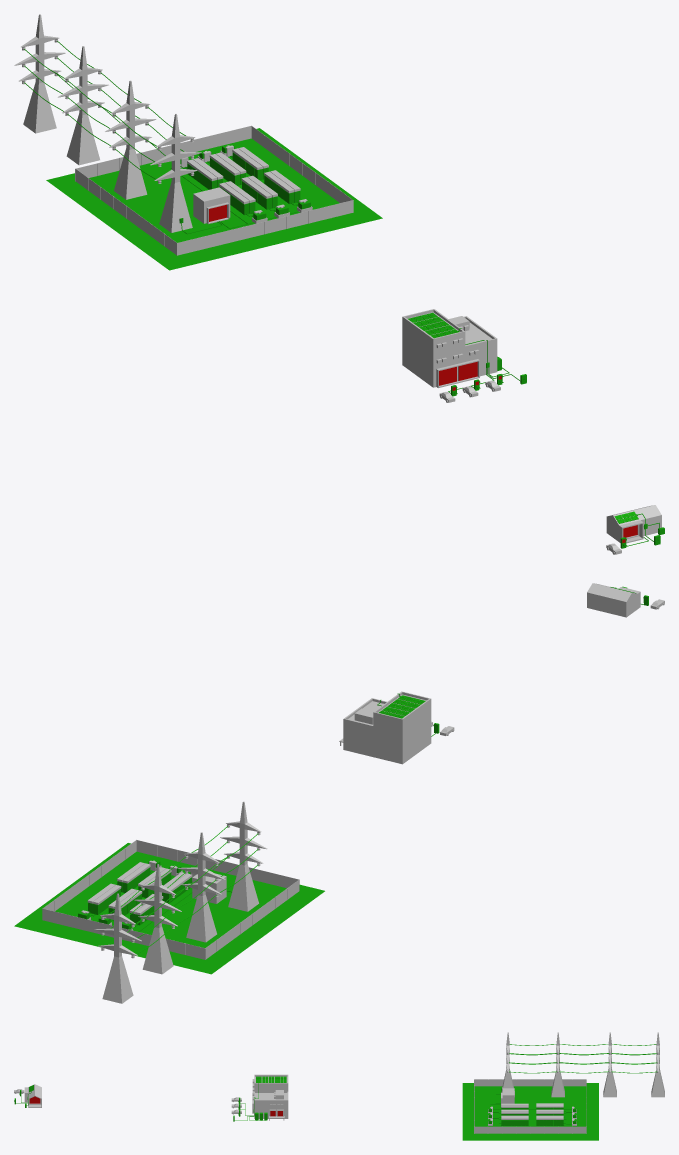
The model's file is ngen_assets.obj.
3 views of the same model, one above another, from view 1: azimuth 30°, elevation 25°; view 2: azimuth 150°, elevation 25°; view 3: azimuth 270°, elevation 25° (orthographic). The views are drawn at different scales.
Parts seen in each view (by area): view 1: 3.1-Investor_Energy_Hub_PLANE, 2-Business_Facility, Perimeter_Fence_-_East.001, Transmission_Pylon_04.001, Transmission_Pylon_01.001, Transmission_Pylon_03.001, Transmission_Pylon_02.001, Perimeter_Fence_-_North.001, Perimeter_Fence_-_South.001, 1-House, Perimeter_Fence_-_West.001, 3-Investor_Energy_Hub; view 2: 3.1-Investor_Energy_Hub_PLANE, 2-Business_Facility, Transmission_Pylon_01.001, Transmission_Pylon_04.001, Transmission_Pylon_02.001, Transmission_Pylon_03.001, Perimeter_Fence_-_East.001, Perimeter_Fence_-_North.001, 1-House, Perimeter_Fence_-_South.001, Perimeter_Fence_-_West.001; view 3: 3.1-Investor_Energy_Hub_PLANE, 2-Business_Facility, Perimeter_Fence_-_West.001, Perimeter_Fence_-_South.001, Transmission_Pylon_02.001, Transmission_Pylon_04.001, Transmission_Pylon_03.001, 1-House, Transmission_Pylon_01.001, 3-Investor_Energy_Hub.
Boxes of the visible parts, <box> form: 3.1-Investor_Energy_Hub_PLANE: <box>46,128,382,270</box>; 2-Business_Facility: <box>402,309,497,387</box>; Perimeter_Fence_-_East.001: <box>177,200,353,255</box>; Transmission_Pylon_04.001: <box>14,14,65,133</box>; Transmission_Pylon_01.001: <box>150,114,201,232</box>; Transmission_Pylon_03.001: <box>57,46,108,165</box>; Transmission_Pylon_02.001: <box>105,80,156,199</box>; Perimeter_Fence_-_North.001: <box>75,125,251,181</box>; Perimeter_Fence_-_South.001: <box>75,169,177,255</box>; 1-House: <box>606,505,661,543</box>; Perimeter_Fence_-_West.001: <box>251,126,352,202</box>; 3-Investor_Energy_Hub: <box>193,187,230,224</box>; 3.1-Investor_Energy_Hub_PLANE: <box>14,843,324,974</box>; 2-Business_Facility: <box>343,691,431,764</box>; Transmission_Pylon_01.001: <box>220,801,267,911</box>; Transmission_Pylon_04.001: <box>94,893,141,1003</box>; Transmission_Pylon_02.001: <box>178,832,225,942</box>; Transmission_Pylon_03.001: <box>134,864,181,974</box>; Perimeter_Fence_-_East.001: <box>136,839,298,888</box>; Perimeter_Fence_-_North.001: <box>43,908,205,959</box>; 1-House: <box>587,583,640,617</box>; Perimeter_Fence_-_South.001: <box>205,879,299,959</box>; Perimeter_Fence_-_West.001: <box>42,840,136,920</box>; 3.1-Investor_Energy_Hub_PLANE: <box>462,1083,598,1140</box>; 2-Business_Facility: <box>252,1074,288,1118</box>; Perimeter_Fence_-_West.001: <box>474,1126,586,1133</box>; Perimeter_Fence_-_South.001: <box>474,1079,586,1086</box>; Transmission_Pylon_02.001: <box>551,1032,564,1097</box>; Transmission_Pylon_04.001: <box>651,1032,664,1097</box>; Transmission_Pylon_03.001: <box>603,1032,616,1097</box>; 1-House: <box>24,1084,41,1107</box>; Transmission_Pylon_01.001: <box>501,1032,514,1096</box>; 3-Investor_Energy_Hub: <box>501,1088,514,1106</box>.
Size of what is drawn, in the model's own units: 20 by 10.26 by 95.59.
